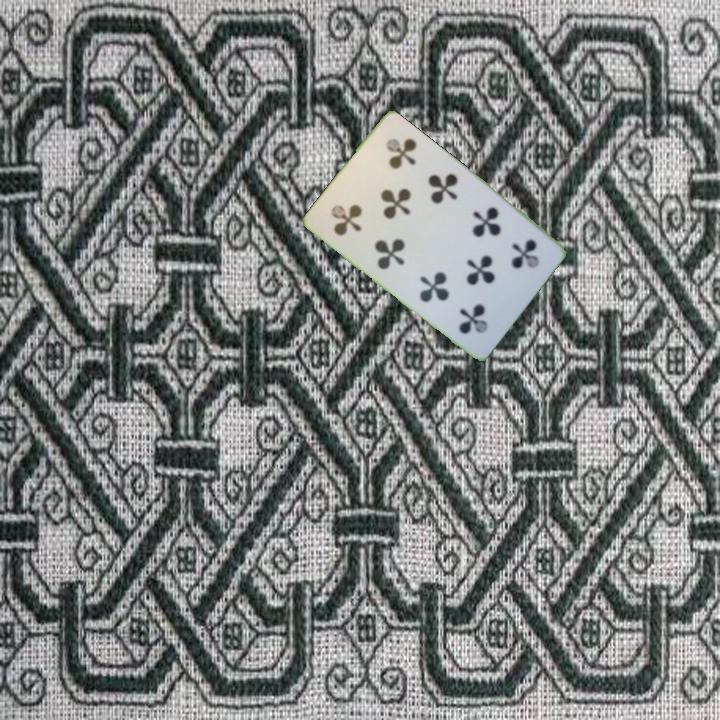c_10.png: (313, 169, 398, 256), (472, 215, 557, 301)
